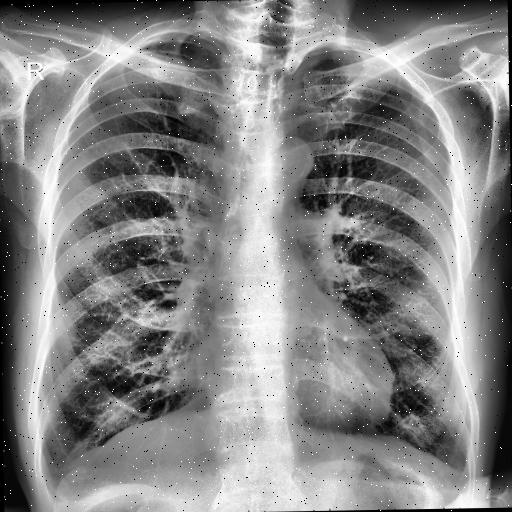0- Aortic enlargement: (256, 133, 316, 183)
10- Pleural effusion: (442, 450, 476, 492)
11- Pleural thickening: (30, 462, 68, 506), (138, 32, 218, 52), (33, 466, 67, 508), (442, 450, 476, 492), (307, 41, 367, 56), (450, 465, 474, 492), (42, 477, 57, 493), (458, 467, 475, 481)
2- Calcification: (300, 148, 312, 177)
